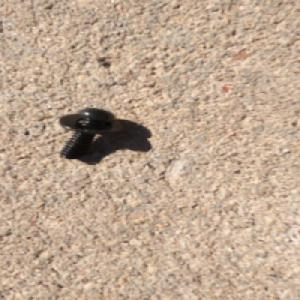BoltWasher: (54, 106, 125, 160)
